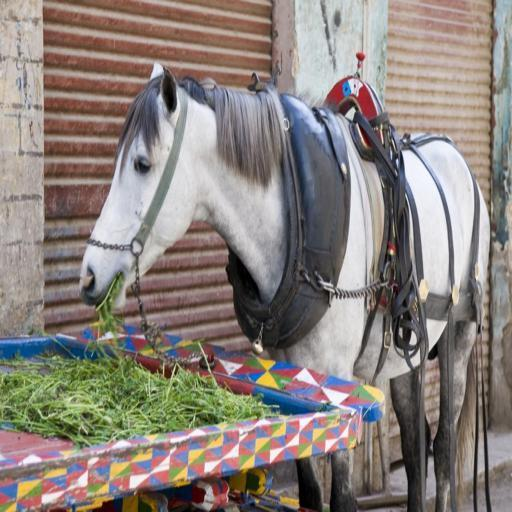horse: (78, 60, 492, 512)
